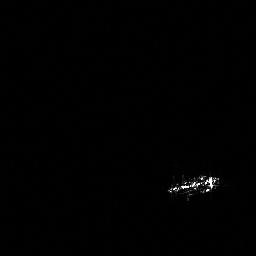ship: (164, 172, 222, 201)
